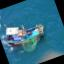fishing boat: (0, 1, 49, 52)
